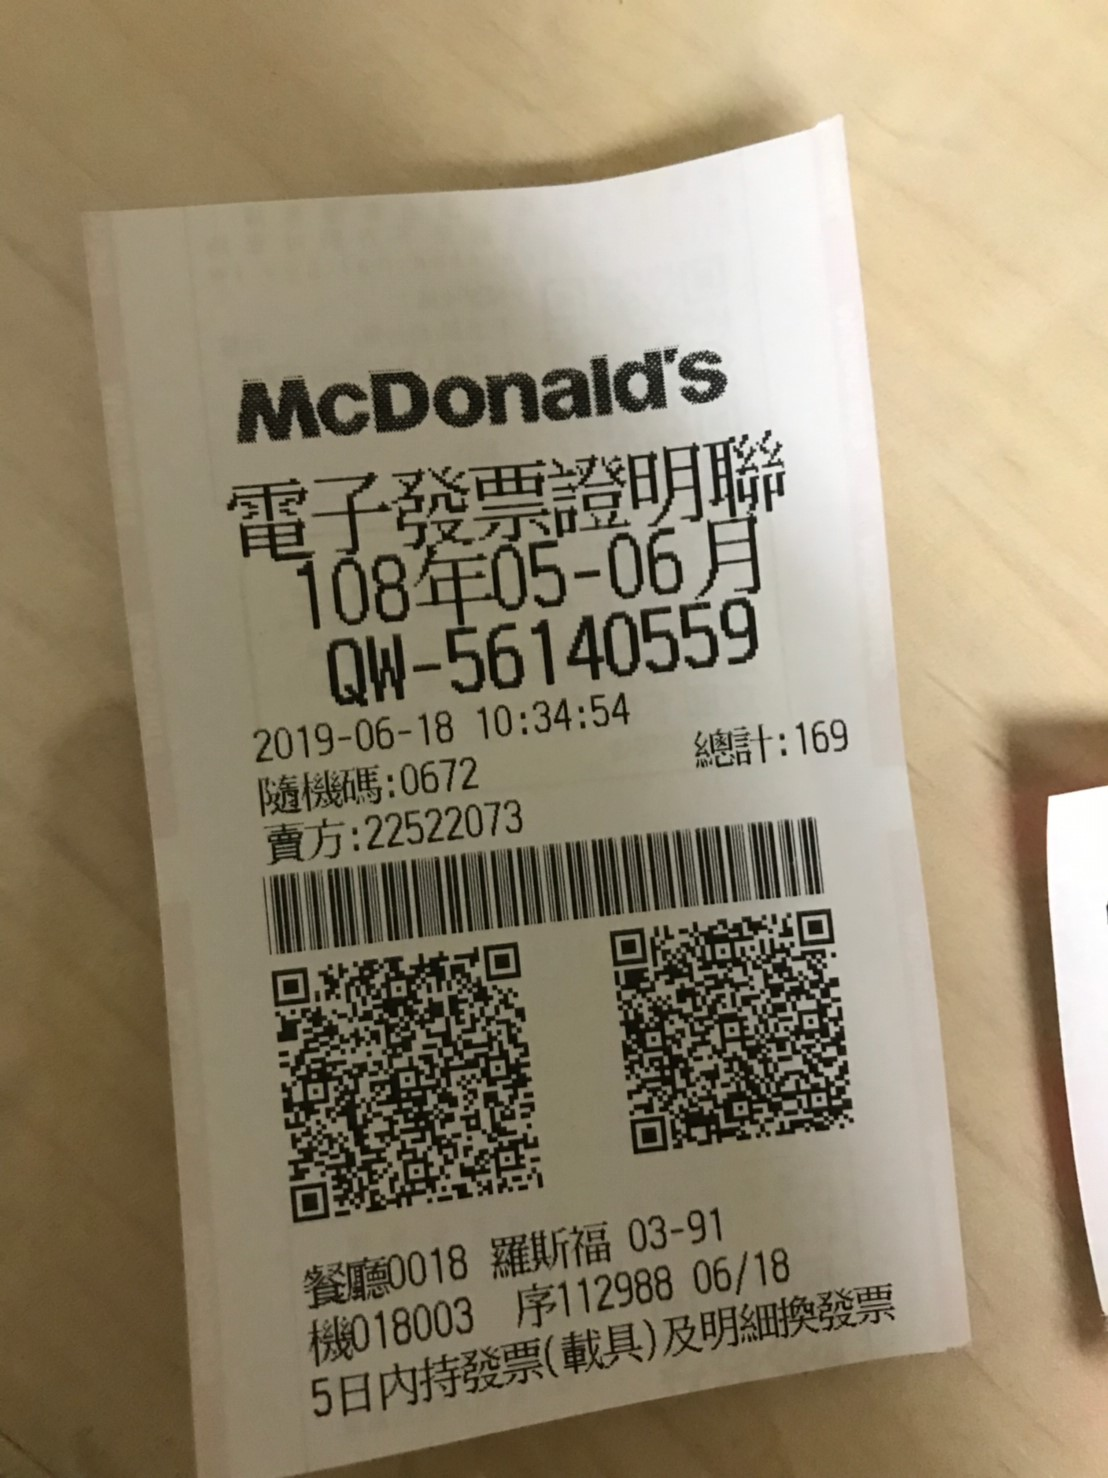Date_New: (294, 510, 770, 632)
Number_New: (445, 591, 759, 695)
